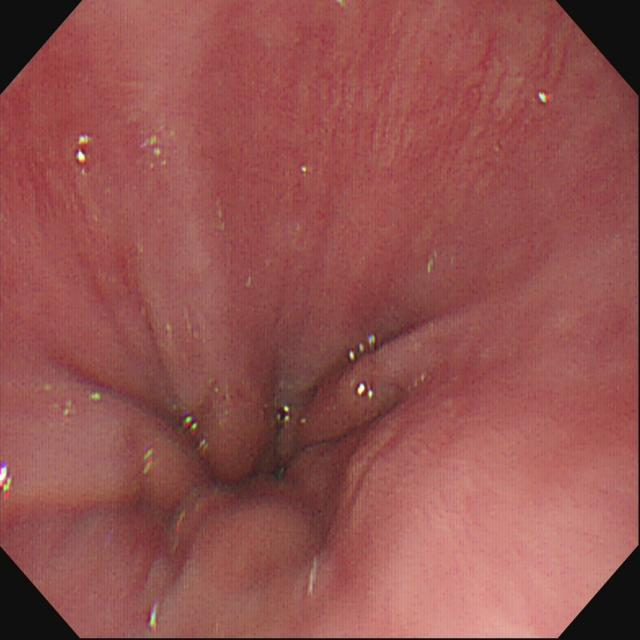U: (2, 467, 13, 501), (78, 135, 89, 164)
